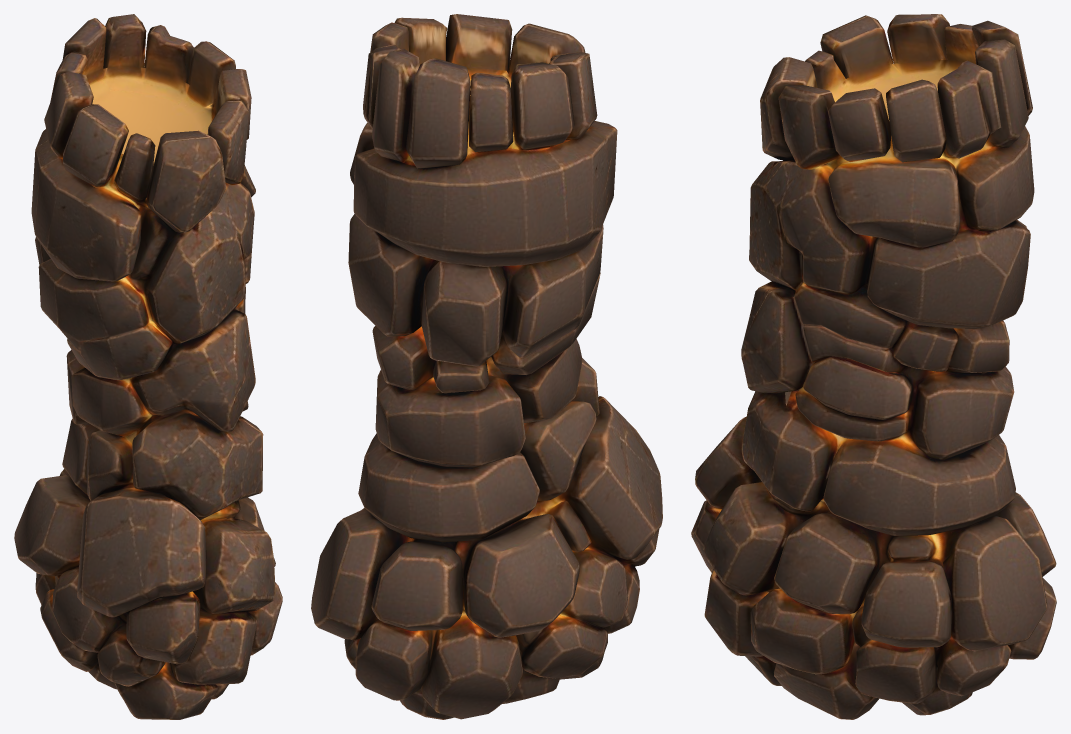
Rendered from golem_hand_r.glb.
The picture shows the model from 3 angles, left to right: view 1: azimuth 30°, elevation 25°; view 2: azimuth 150°, elevation 25°; view 3: azimuth 270°, elevation 25°; orthographic projection. The views are drawn at different scales.
Parts seen in each view (by area): view 1: tripo_node_f165d855-98d4-402d-b5a6-824ce7558e50; view 2: tripo_node_f165d855-98d4-402d-b5a6-824ce7558e50; view 3: tripo_node_f165d855-98d4-402d-b5a6-824ce7558e50.
Boxes of the visible parts, x1=… form: tripo_node_f165d855-98d4-402d-b5a6-824ce7558e50: x1=14, y1=14, x2=282, y2=719; tripo_node_f165d855-98d4-402d-b5a6-824ce7558e50: x1=311, y1=14, x2=662, y2=719; tripo_node_f165d855-98d4-402d-b5a6-824ce7558e50: x1=691, y1=14, x2=1056, y2=719.
Size of the model in its own units: 0.3784 by 0.9995 by 0.4946.
Materials: 1 (1 with a texture image).
